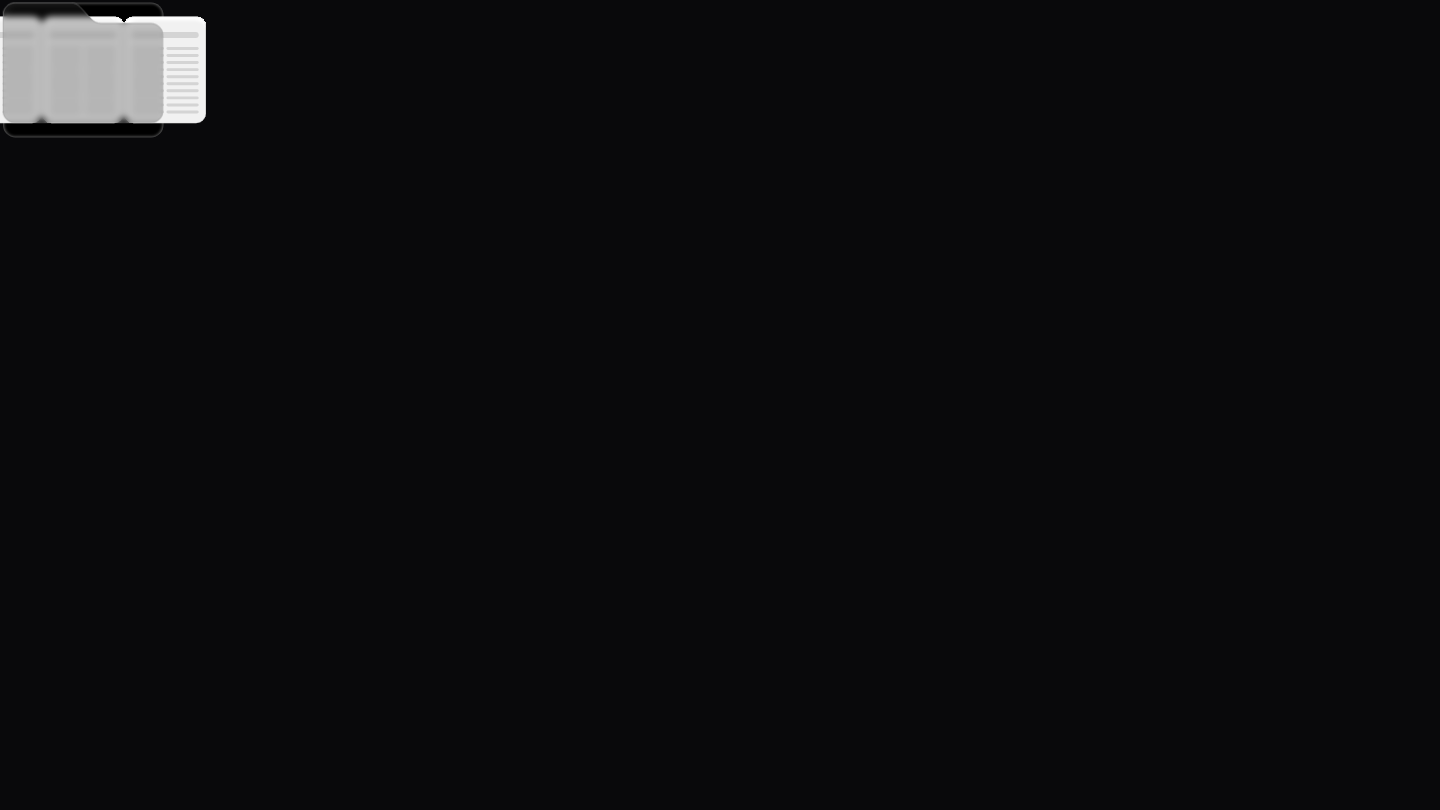
DraftsFolder › lists draft titles and saved links when opened
The image size is (1440, 810).
Click the button named "Drafts and links": (82, 70) [0, 0, 165, 140]
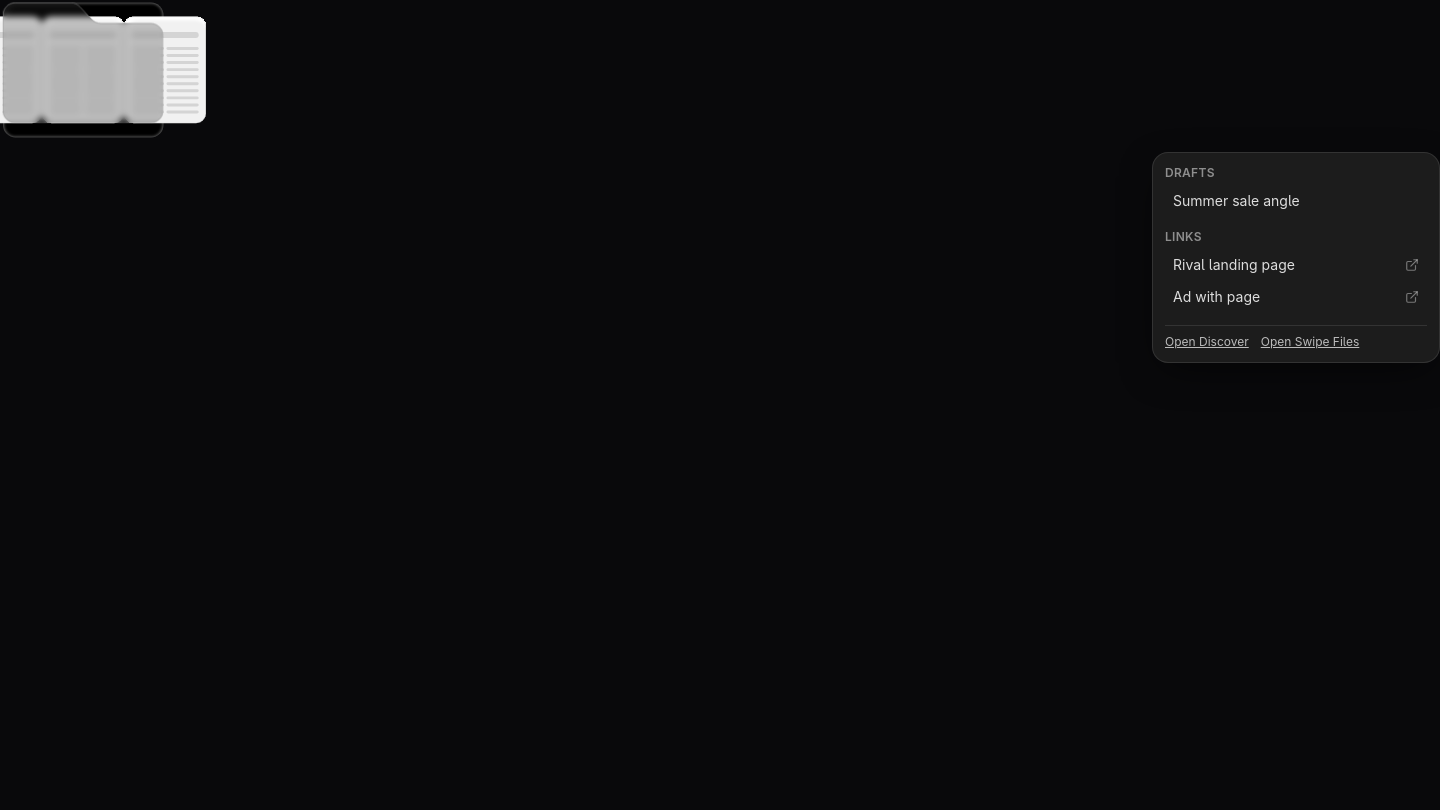
Expected: the link "Summer sale angle" is shown, [1173, 192, 1300, 208]
Expected: the text "Rival landing page" is shown, [1173, 254, 1295, 274]
Expected: the text "Ad with page" is shown, [1173, 286, 1260, 306]
